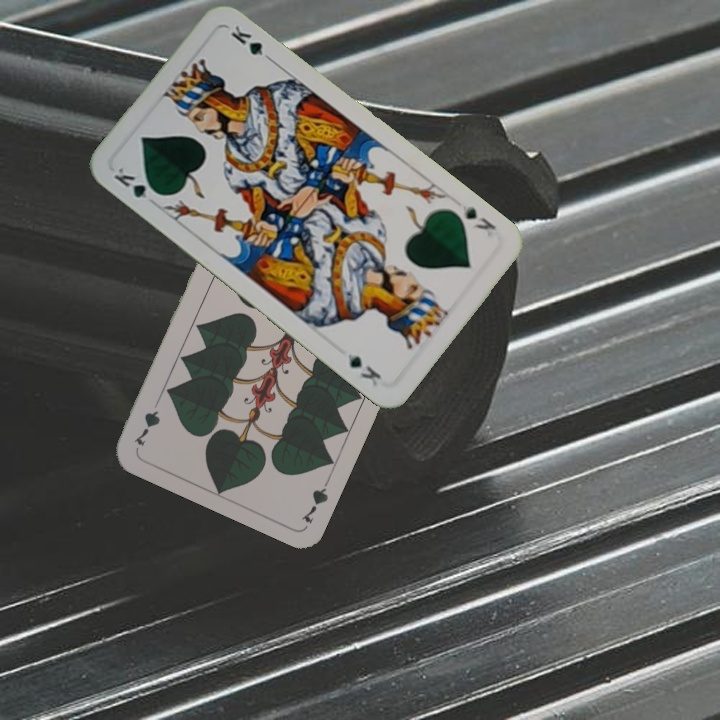G7: (297, 470, 335, 526)
GK: (109, 163, 164, 203), (458, 200, 499, 233)
